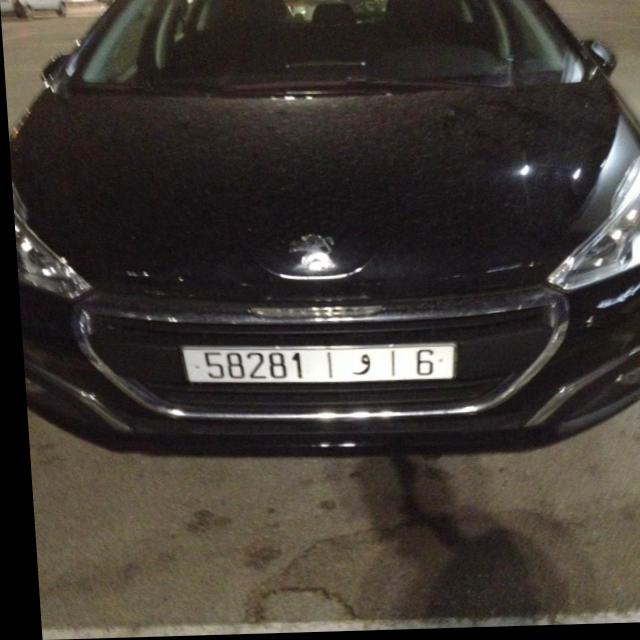License-Plate: (177, 346, 450, 384)
